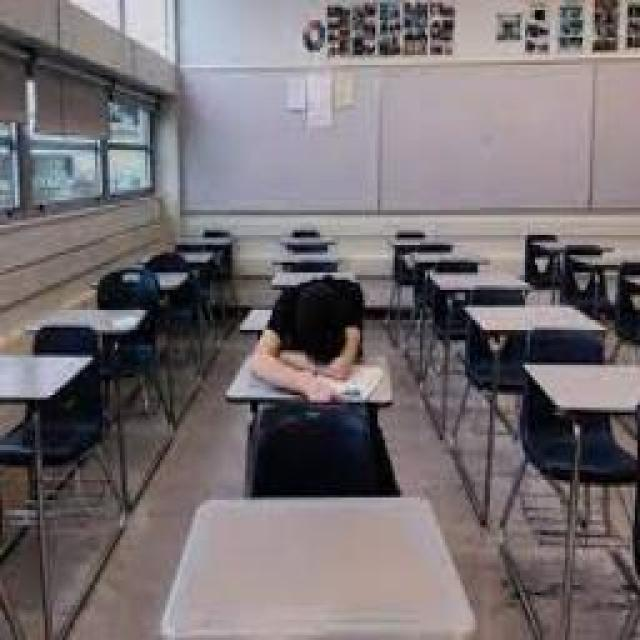sleep: (250, 275, 368, 403)
